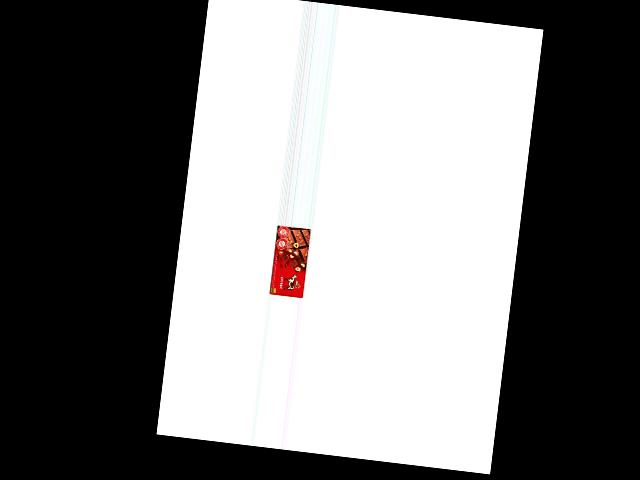chocolate: (268, 225, 311, 298)
